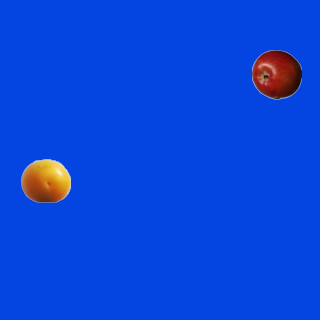Apple Braeburn: (251, 49, 301, 99)
Cherry Wax Yellow: (20, 155, 70, 205)
